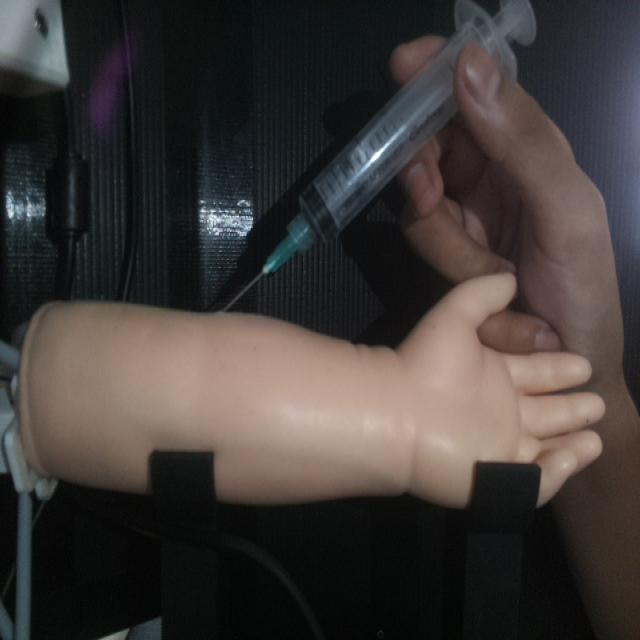Above 30 degrees: (217, 0, 538, 312)
